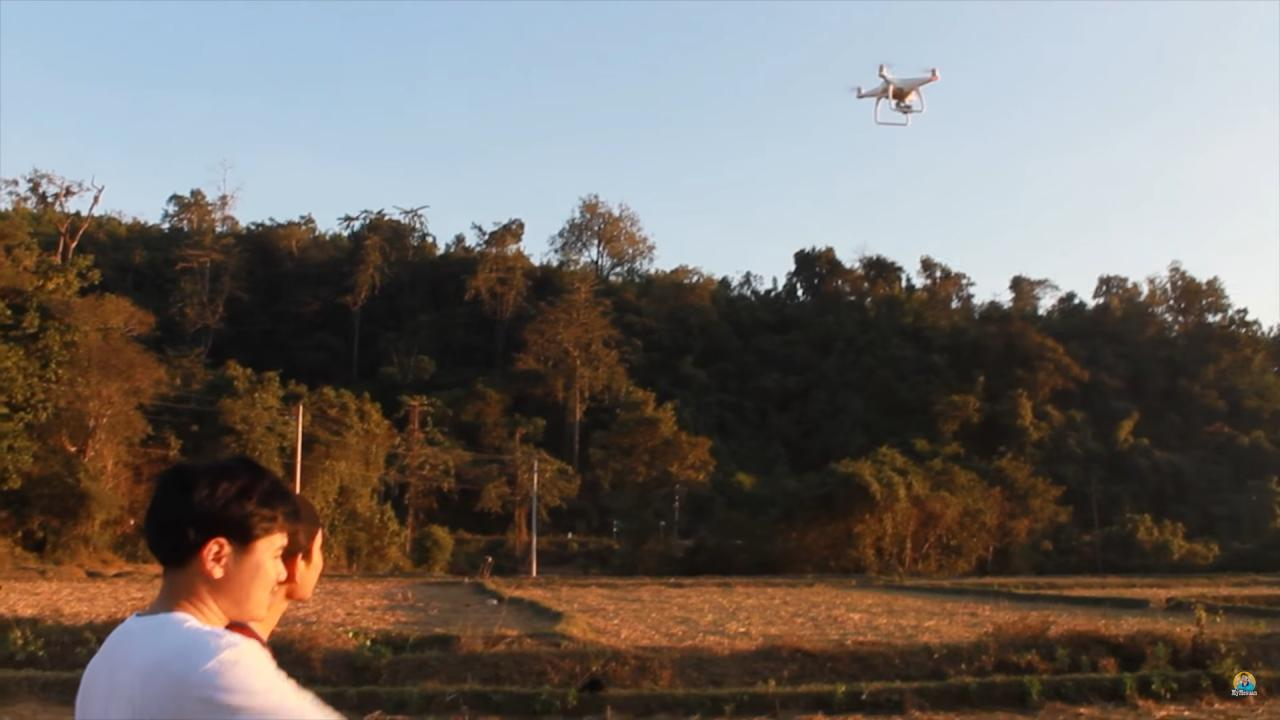Drone: (834, 55, 958, 137)
